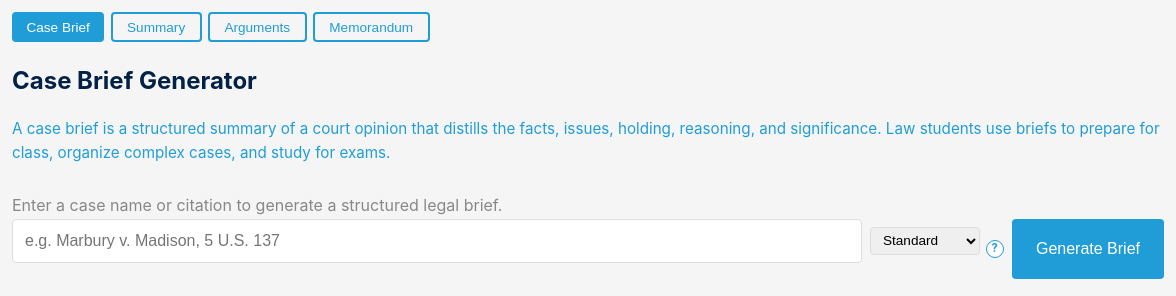
Test: DraftingView › switches to the Summary tab
Click the button "Summary".
click(156, 27)  # box [111, 12, 202, 42]
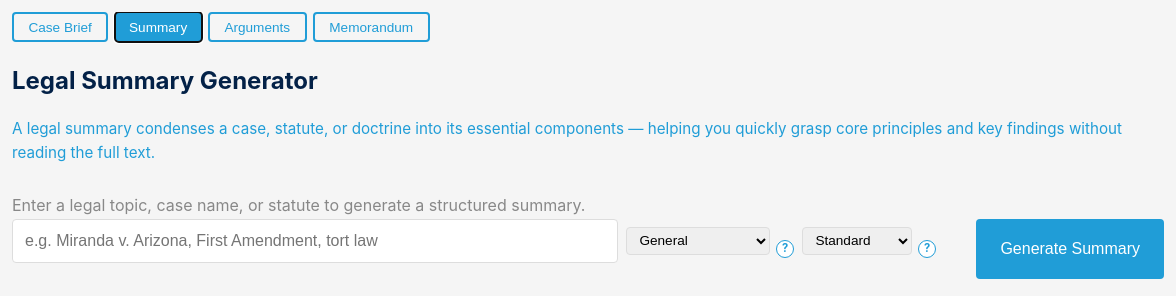
Expected: the heading "Legal Summary Generator" is shown, [12, 66, 318, 95]
Expected: the heading "Case Brief Generator" is gone
